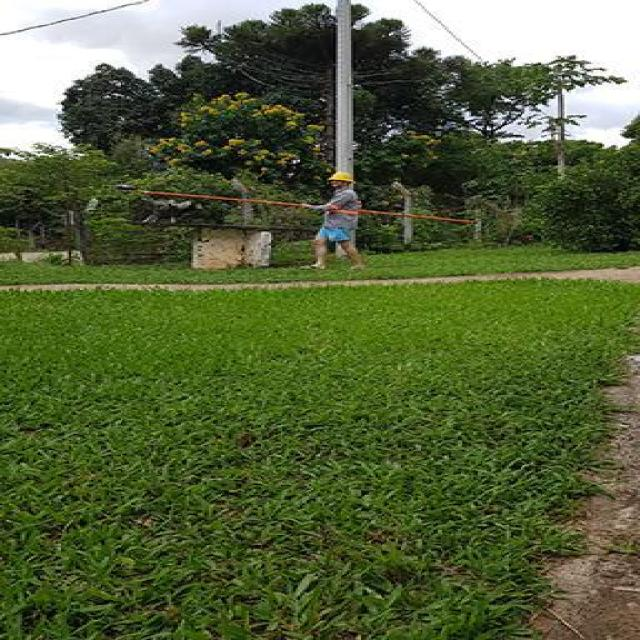helmet: (326, 172, 356, 188)
